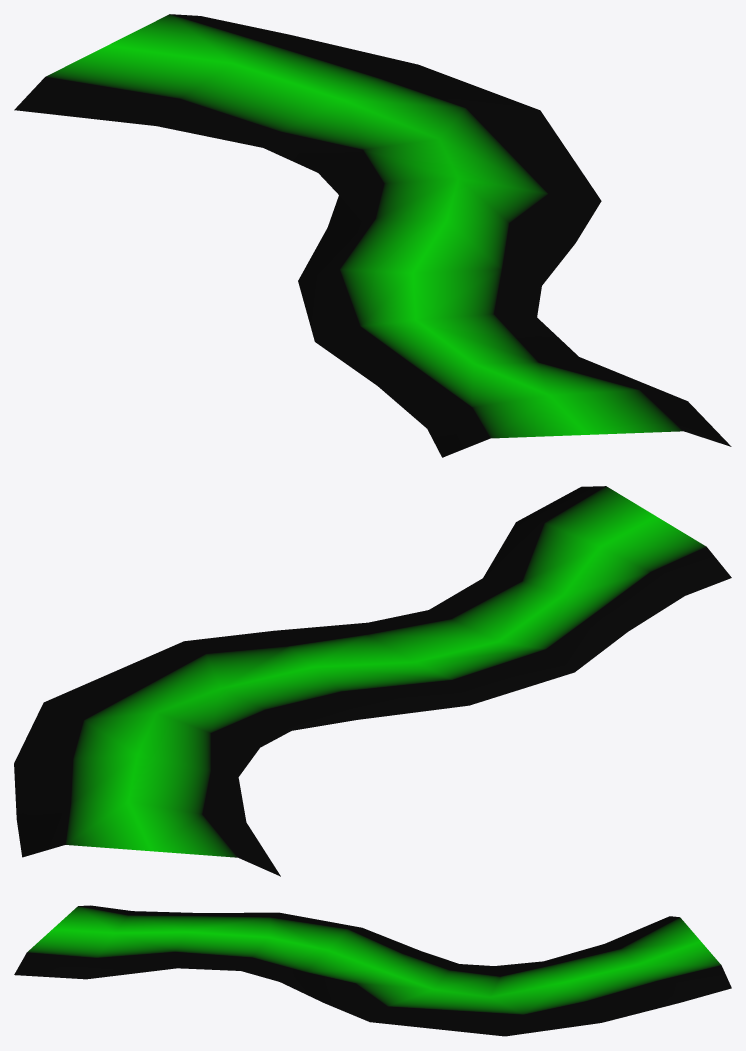
The model's file is Section_WayBend45Angle02_Swamp_Terrain.fbx.
3 views of the same model, one above another, from view 1: azimuth 30°, elevation 25°; view 2: azimuth 150°, elevation 25°; view 3: azimuth 270°, elevation 25° (orthographic). The views are drawn at different scales.
Parts seen in each view (by area): view 1: Section_WayBend45Angle02_Swamp_Terrain; view 2: Section_WayBend45Angle02_Swamp_Terrain; view 3: Section_WayBend45Angle02_Swamp_Terrain.
Boxes of the visible parts, left/top/right/bottom form: Section_WayBend45Angle02_Swamp_Terrain: left=14, top=14, right=731, bottom=457; Section_WayBend45Angle02_Swamp_Terrain: left=14, top=486, right=731, bottom=876; Section_WayBend45Angle02_Swamp_Terrain: left=14, top=905, right=731, bottom=1036.
Bounding box in the file's own units: 2559 × 100 × 5926.
